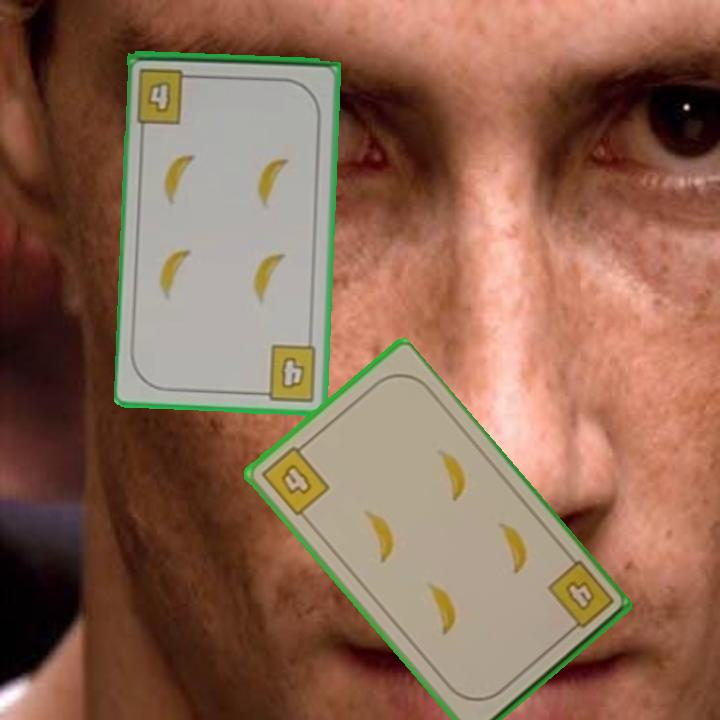4b: (257, 438, 333, 519), (542, 557, 617, 639), (254, 341, 320, 404), (133, 64, 200, 126)
